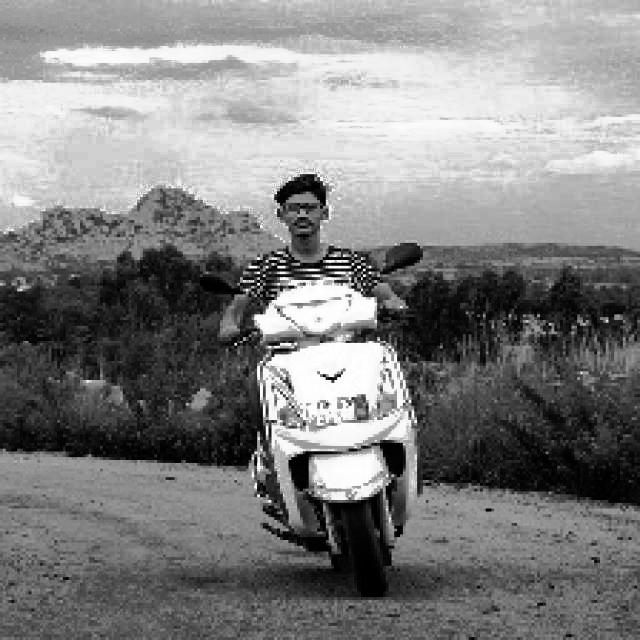Bike: (260, 287, 427, 609)
